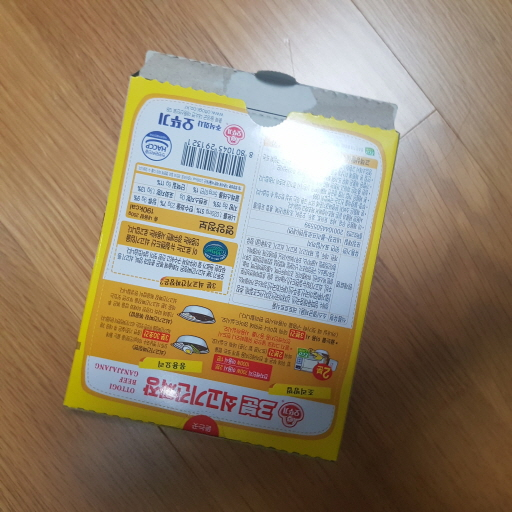Paper_0: (59, 46, 405, 466)
